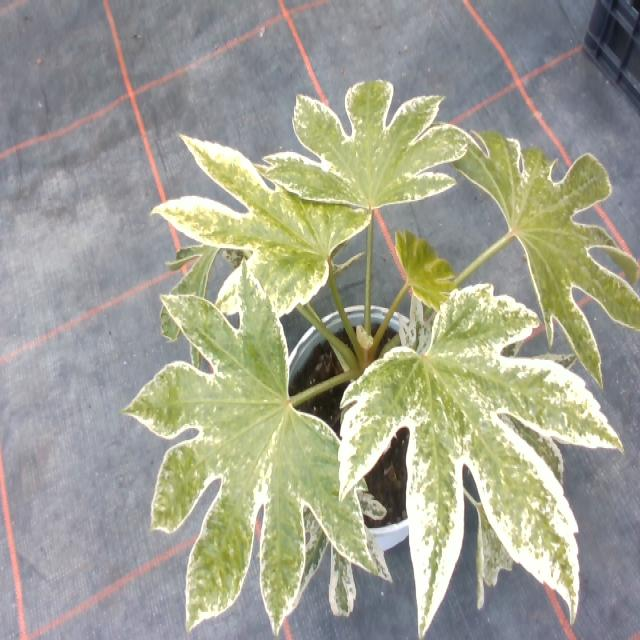Fatsia-japonica: (320, 279, 606, 628), (120, 276, 390, 624), (433, 113, 640, 388), (143, 122, 369, 335), (254, 74, 462, 221), (266, 476, 389, 630), (148, 216, 258, 375), (464, 488, 526, 623), (383, 230, 465, 317)
